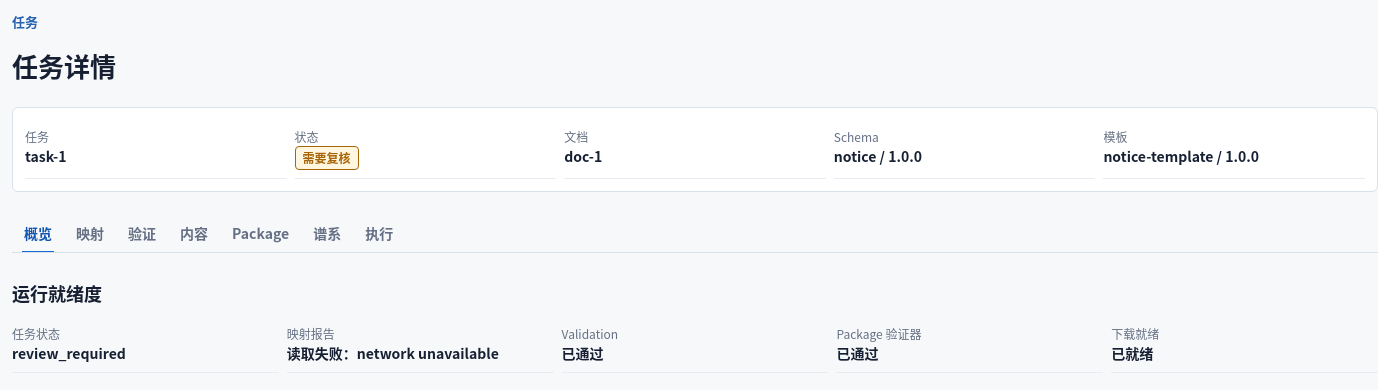
TaskDetailPage › shows the report failure instead of an empty state for network unavailable
Expected: the text "task-1" is shown, [25,146,66,166]
What coordinates should you click on to do the following:
click the tab "映射"
I would click on:
 (90, 234)
Its box is [64,216,116,252].
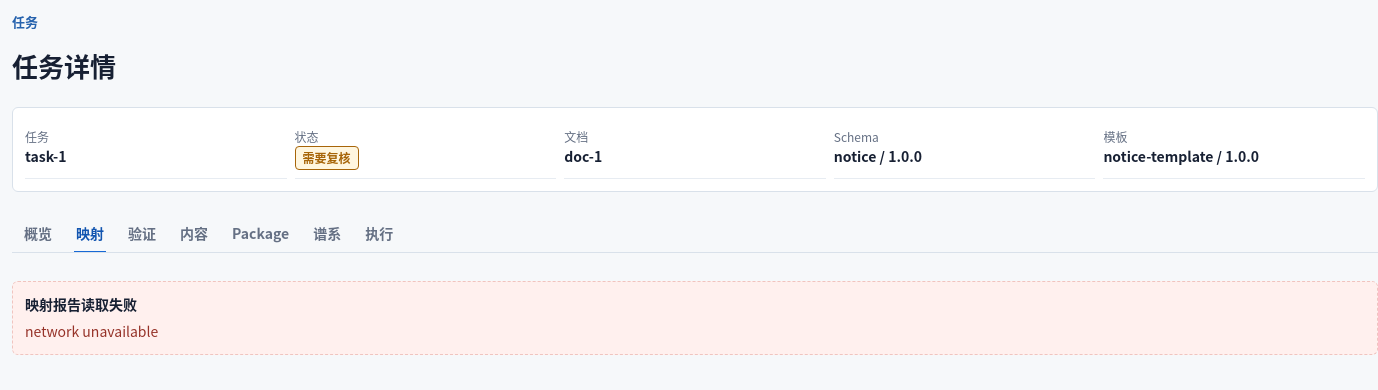
Expected: the text "network unavailable" is shown, [25,321,158,341]
Now the text "映射报告读取失败" is shown, box [25,294,137,314]
